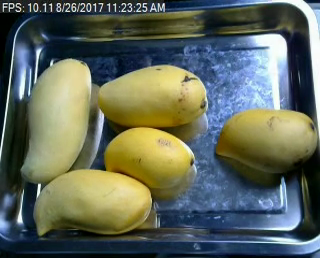Mango: (19, 55, 90, 184), (32, 168, 151, 236), (96, 65, 207, 125), (215, 109, 317, 173), (103, 127, 192, 187)
